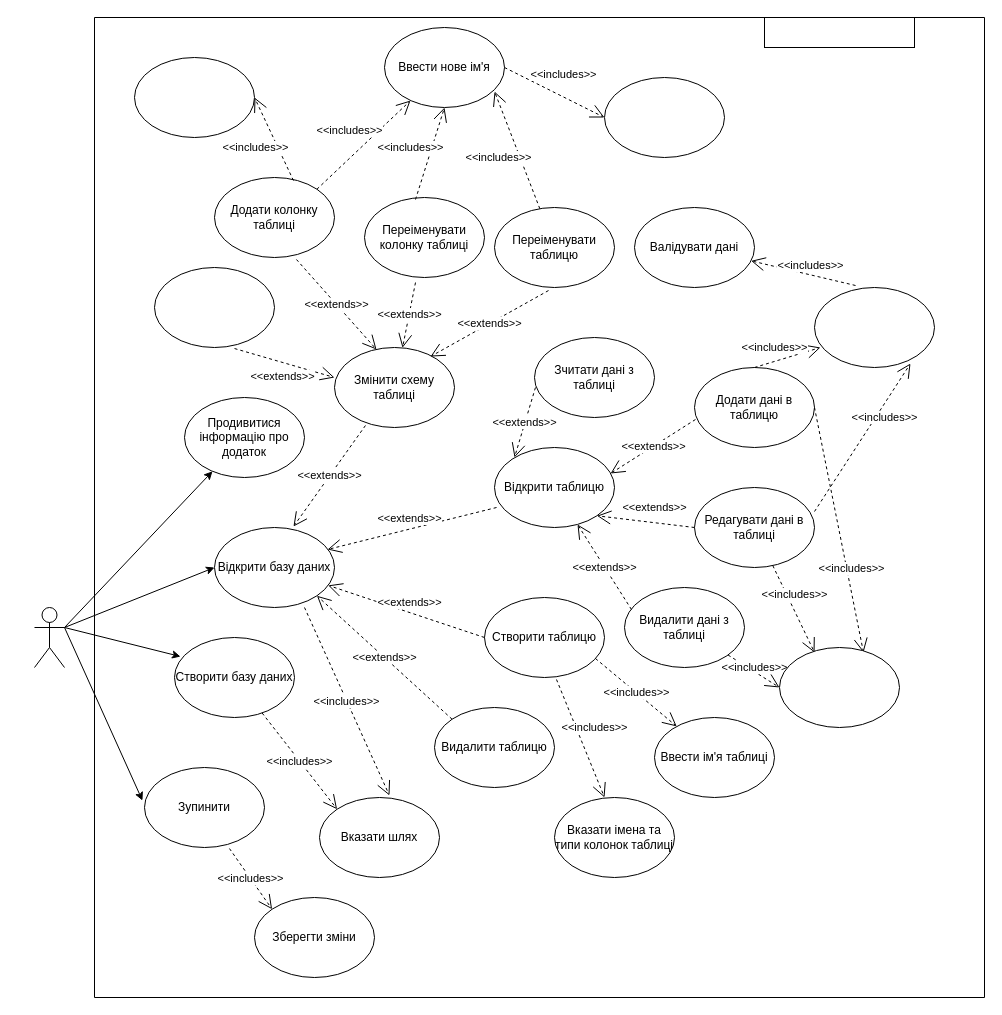
The diagram is 1002 pixels wide and 1015 high, and some of its shapes have lost their labels. The centre of each missing label's shape, as x and y in pixels:
Валідувати нове ім'я: point (664, 117)
Ввести дані: point (874, 327)
Ввести тип даних: point (194, 97)
Видалити колонку таблиці: point (214, 307)
Зберегти таблицю: point (839, 687)
Користувач: point (49, 637)
Межі системи: point (839, 32)
